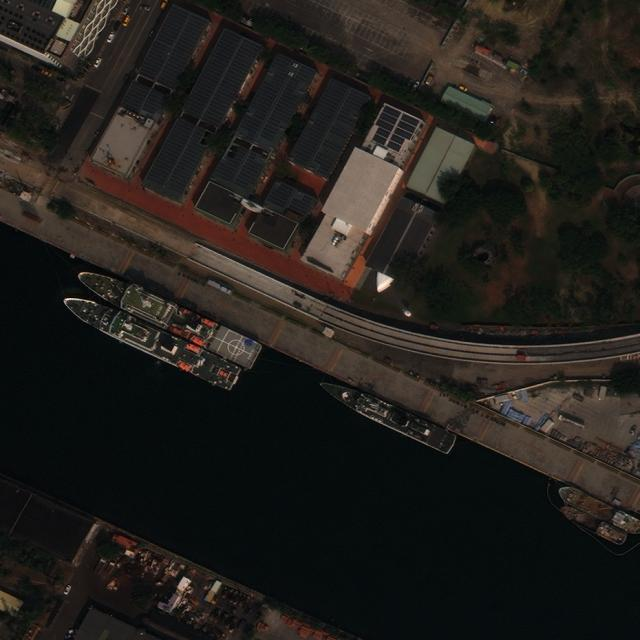Other Ship: (310, 375, 459, 456), (557, 485, 640, 534), (555, 501, 629, 548)
Other Warship: (72, 262, 263, 374), (58, 289, 243, 394)
